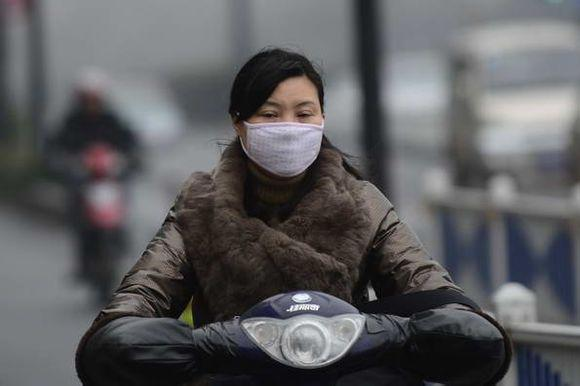OK: (249, 97, 329, 174)
